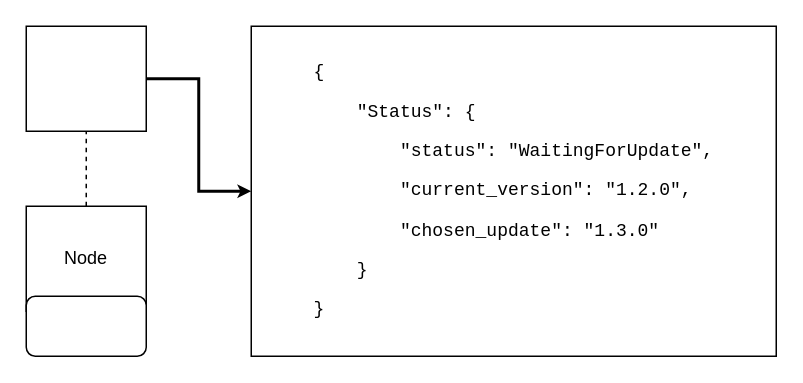
Image size: 803x383. Some labels were removed from this diagram. Each missing label, with the centre of its shape:
agent: the point at 85,325
brn: the point at 85,78
